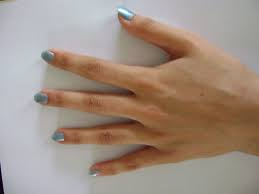hand: (26, 1, 245, 181)
